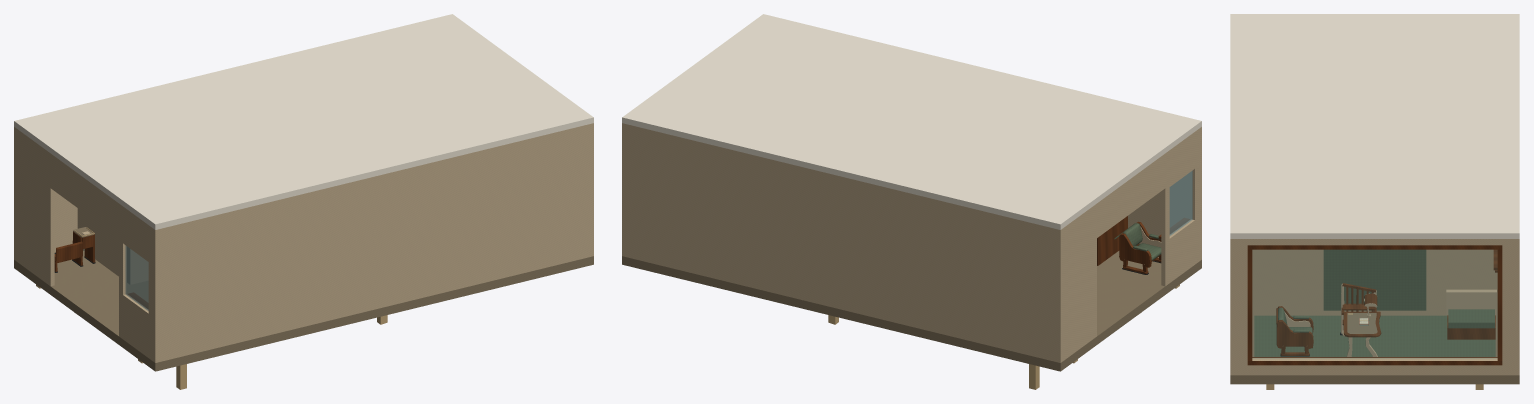
Rendered from NG452_WarmInterior_r001.glb.
3 views of the same model, side by side, from view 1: azimuth 30°, elevation 25°; view 2: azimuth 150°, elevation 25°; view 3: azimuth 270°, elevation 25° (orthographic). The views are drawn at different scales.
Parts seen in each view (by area): view 1: NG452_RuntimeBatch_001, NG452_RoomFloor, NG452_ScreenedStreetGlass, NG452_RuntimeBatch_013; view 2: NG452_RuntimeBatch_001, NG452_RoomFloor, NG452_ScreenedStreetGlass, NG452_RuntimeBatch_049, NG452_RuntimeBatch_002; view 3: NG452_RuntimeBatch_001, NGP_452_PrivateViewPane, NG452_RoomFloor, NGW_452_OutlookFloorInlay, NG452_RuntimeBatch_006, NGP_452_Frame_Sill, NGP_452_Frame_Head, NGP_452_ViewSeat_Back, NG452_RuntimeBatch_028, NG452_RuntimeBatch_007, NGP_452_ViewSeat_Cushion, NGP_452_Frame_Left (+4 smaller).
Part boxes in pixels (x1,y1,x2,y2): NG452_RuntimeBatch_001: (14,14,593,362); NG452_RoomFloor: (14,250,593,371); NG452_ScreenedStreetGlass: (125,245,148,310); NG452_RuntimeBatch_013: (54,231,95,271); NG452_RuntimeBatch_001: (622,14,1201,362); NG452_RoomFloor: (622,251,1201,371); NG452_ScreenedStreetGlass: (1169,171,1192,235); NG452_RuntimeBatch_049: (1119,221,1161,274); NG452_RuntimeBatch_002: (1097,216,1190,265); NG452_RuntimeBatch_001: (1230,14,1519,375); NGP_452_PrivateViewPane: (1252,250,1497,358); NG452_RoomFloor: (1230,249,1519,384); NGW_452_OutlookFloorInlay: (1254,315,1495,356); NG452_RuntimeBatch_006: (1323,249,1426,310); NGP_452_Frame_Sill: (1247,357,1502,365); NGP_452_Frame_Head: (1247,245,1502,249); NGP_452_ViewSeat_Back: (1446,289,1496,315); NG452_RuntimeBatch_028: (1276,306,1313,355); NG452_RuntimeBatch_007: (1341,283,1381,337); NGP_452_ViewSeat_Cushion: (1448,309,1494,328); NGP_452_Frame_Left: (1497,249,1502,360).
Size of the model in its own units: 12.9 by 5.31 by 7.2.
37 materials, 20 textured.
